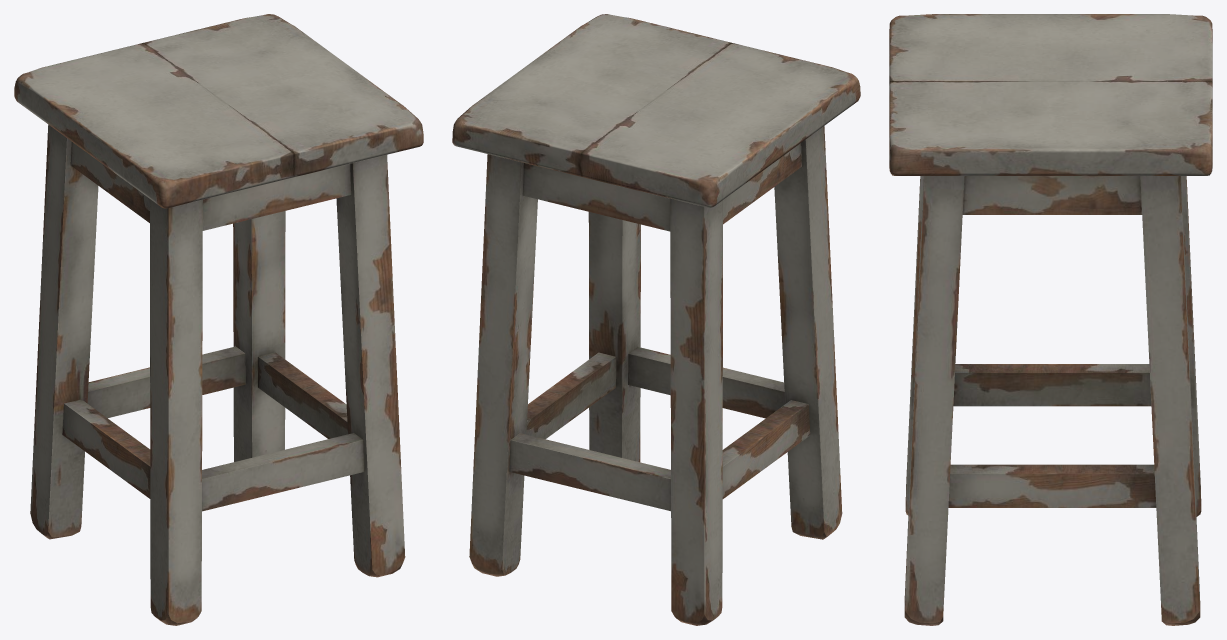
Rendered from low-stool.glb.
3 renders of one model, left to right at view 1: azimuth 30°, elevation 25°; view 2: azimuth 150°, elevation 25°; view 3: azimuth 270°, elevation 25°, orthographic. The views are drawn at different scales.
Visible parts, largest first — view 1: low-stool; view 2: low-stool; view 3: low-stool.
Part boxes in pixels (box(x1,y1,x2,y2)): low-stool: box(14, 14, 423, 625); low-stool: box(452, 14, 860, 625); low-stool: box(889, 14, 1212, 625).
Size of the model in its own units: 0.35 by 0.58 by 0.35.
Materials: 1 (1 with a texture image).
